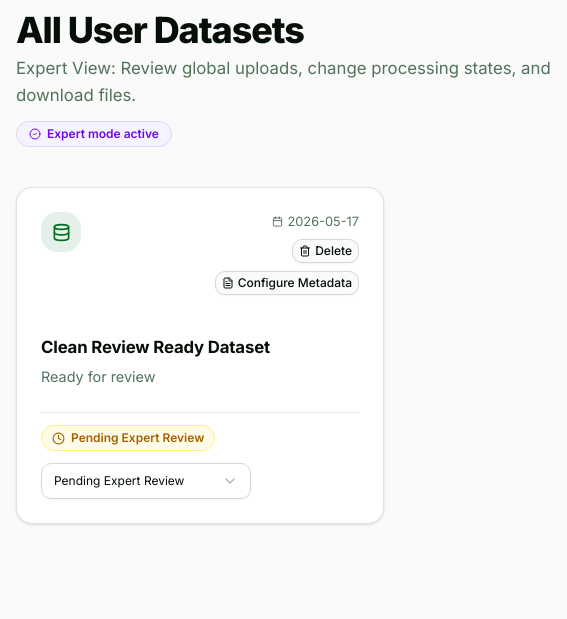
Test: MyDatasetsPage › does not offer scanning for review-ready clean datasets
Expected: the heading "Clean Review Ready Dataset" is shown, 41,337 -> 270,357
Click the dropdown labelled "Pending Expert Review": (146, 481) 41,463 -> 251,499
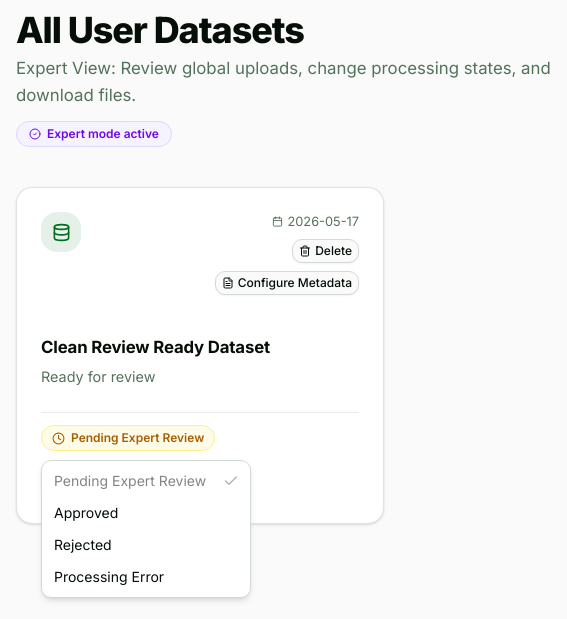
Expected: the option "Approved" is shown, 54,504 -> 118,521
Expected: the option "Rejected" is shown, 54,536 -> 112,553
